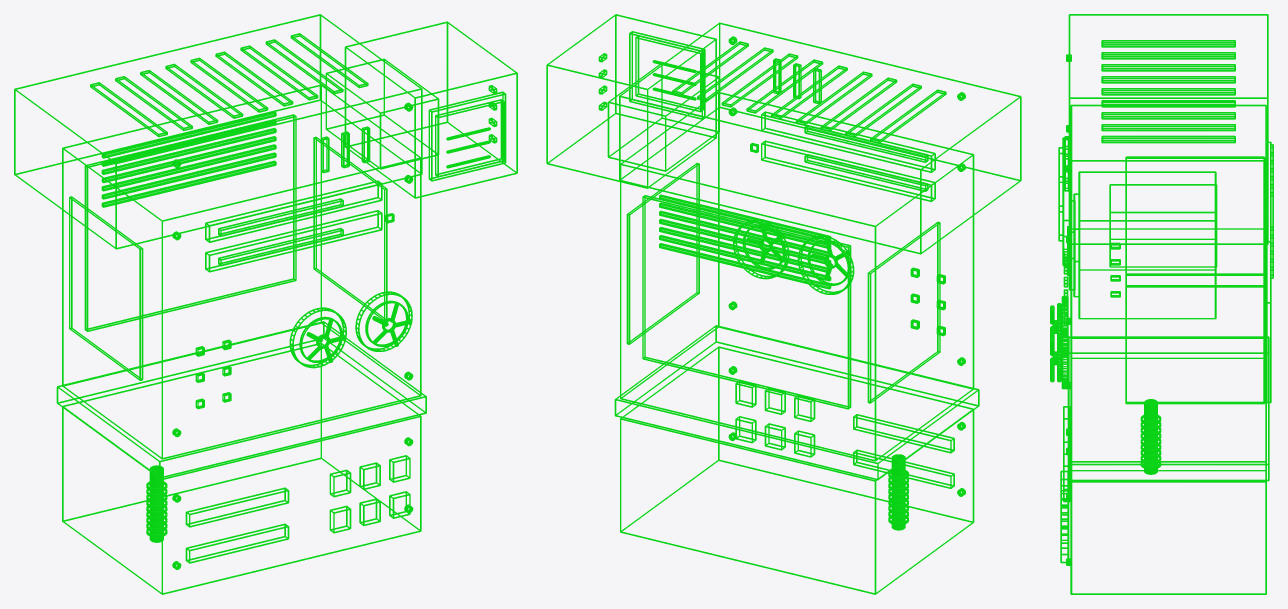
The model's file is asteroid-tracker-wireframe.glb.
3 renders of one model, left to right at view 1: azimuth 30°, elevation 25°; view 2: azimuth 150°, elevation 25°; view 3: azimuth 270°, elevation 25°, orthographic. The views are drawn at different scales.
Parts seen in each view (by area): view 1: chassis technical wire, user-interface technical wire, calibration-device technical wire, data-storage technical wire, cooling-fans technical wire; view 2: chassis technical wire, user-interface technical wire, calibration-device technical wire, data-storage technical wire, cooling-fans technical wire; view 3: chassis technical wire, user-interface technical wire, calibration-device technical wire, cooling-fans technical wire, data-storage technical wire.
Boxes of the visible parts, x1,y1,x2,y2 form: chassis technical wire: (14,14,426,594); user-interface technical wire: (320,21,517,198); calibration-device technical wire: (146,339,410,563); data-storage technical wire: (205,180,394,272); cooling-fans technical wire: (289,291,412,368); chassis technical wire: (614,22,1021,594); user-interface technical wire: (546,14,821,188); calibration-device technical wire: (735,267,954,530); data-storage technical wire: (750,111,935,201); cooling-fans technical wire: (733,219,854,294); chassis technical wire: (1066,14,1273,594); user-interface technical wire: (1064,136,1217,319); calibration-device technical wire: (1060,251,1161,563); cooling-fans technical wire: (1050,296,1068,389); data-storage technical wire: (1058,137,1068,267).
Bounding box in the file's own units: 2.6 × 2.72 × 1.26.
